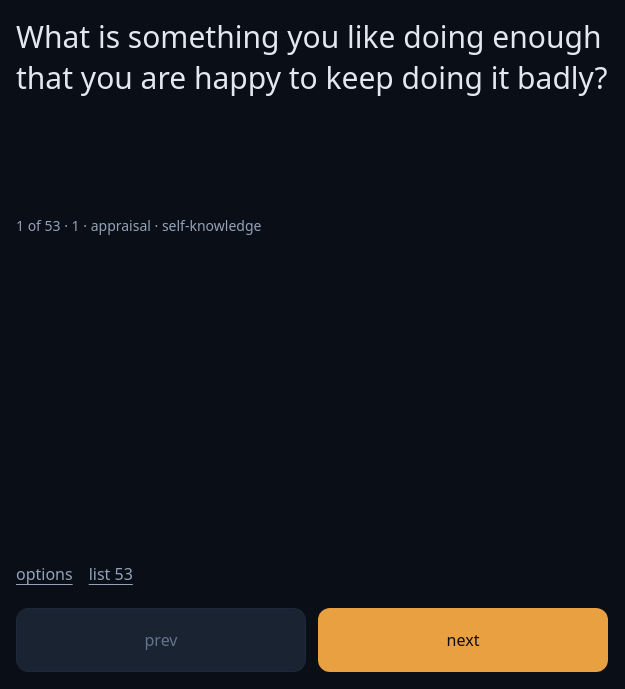
QuestionsClient › moves next to the second shuffled question, enables prev, and stores the left id and seed
Click the button "next".
click(463, 640)  # box 318,608 -> 608,672
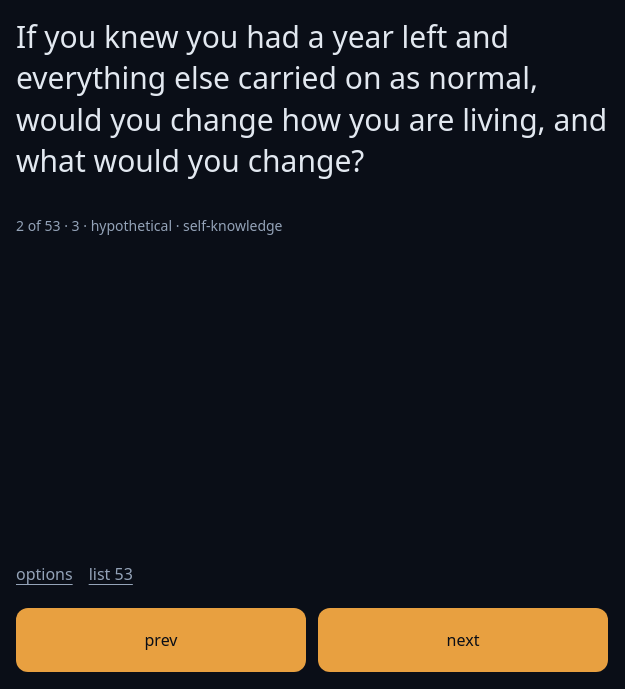
Check: the text "If you knew you had a year left and everything else carried on as normal, would you change how you are living, and what " is shown, box 16,16 -> 607,181
Check: the button "prev" is enabled, box 16,608 -> 306,672
